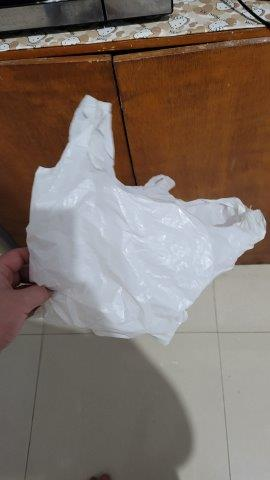plastik: (29, 94, 265, 350)
